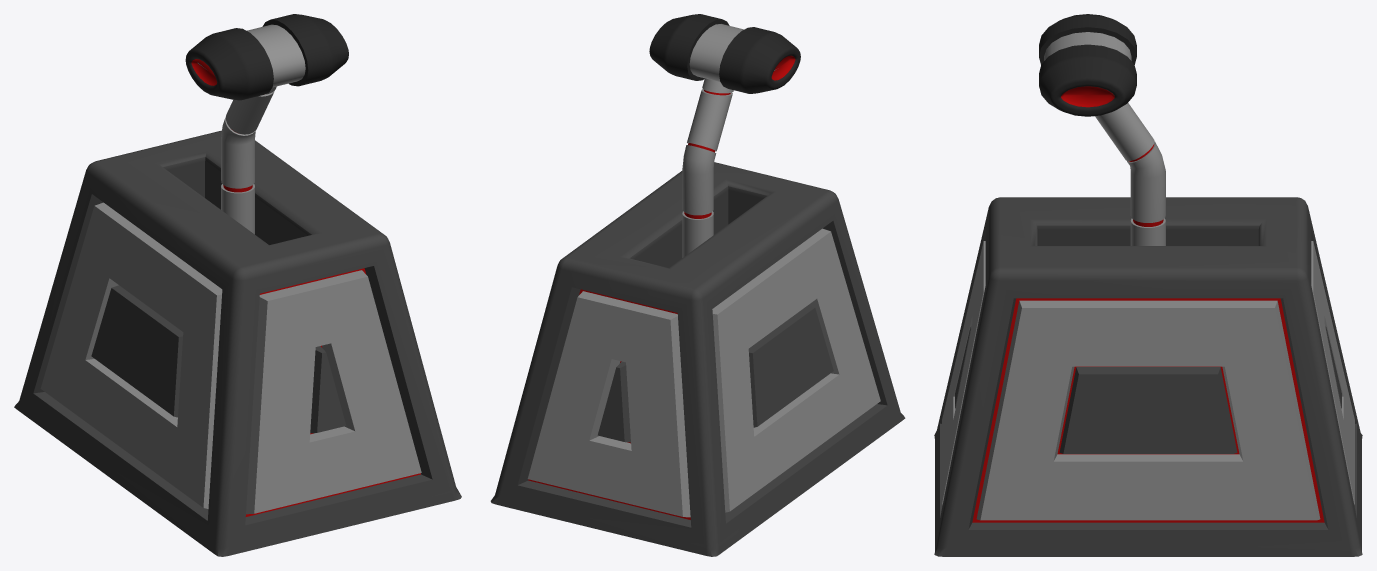
Rendered from Lever_01.fbx.
The picture shows the model from 3 angles, left to right: view 1: azimuth 30°, elevation 25°; view 2: azimuth 150°, elevation 25°; view 3: azimuth 270°, elevation 25°; orthographic projection. The views are drawn at different scales.
Parts seen in each view (by area): view 1: Base, Handle; view 2: Base, Handle; view 3: Base, Handle.
Boxes of the visible parts, x1,y1,x2,y2 form: Base: (14, 130, 461, 556); Handle: (185, 14, 348, 234); Base: (490, 162, 905, 556); Handle: (649, 14, 800, 257); Base: (934, 197, 1362, 556); Handle: (1039, 14, 1165, 245).
Bounding box in the file's own units: 1 × 1.75 × 1.48.
